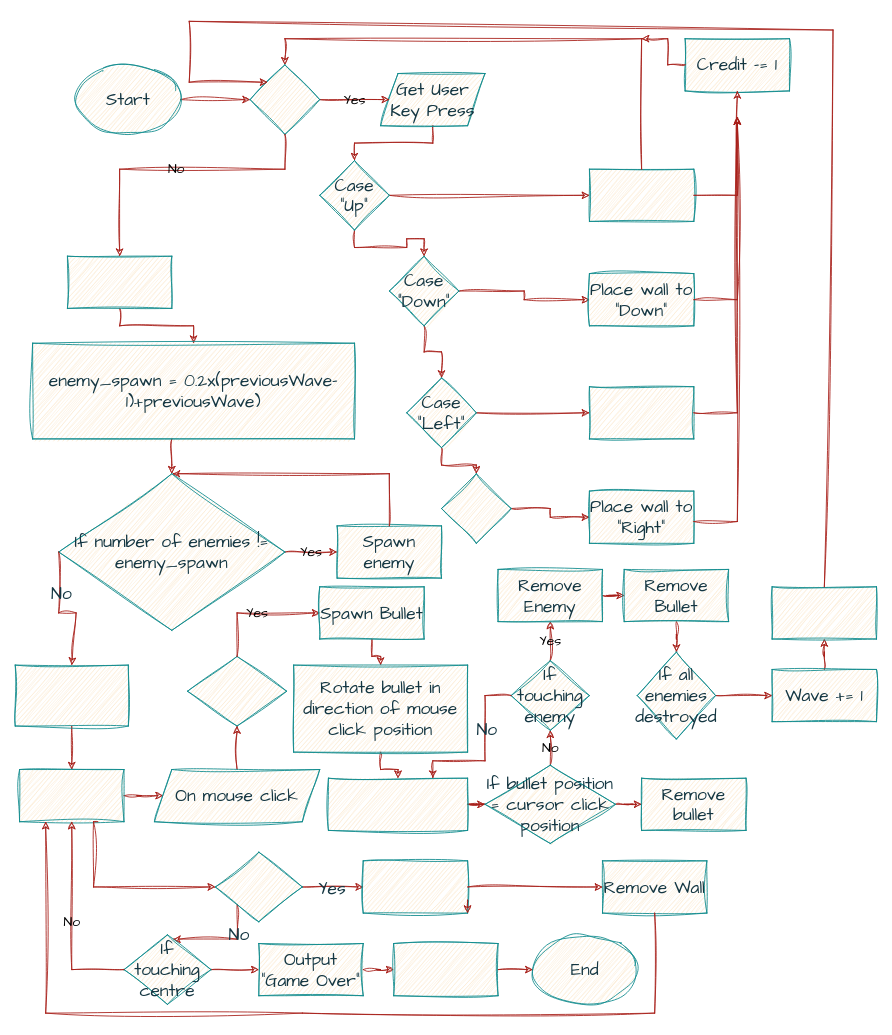
The diagram is 892 pixels wide and 1035 high, and some of its shapes have lost their labels. Here are the shapes that lost their labels. From the top down, the centre of each, then its label:
pixel 284 99: If Credit != 0
pixel 641 194: Place wall to "Up"
pixel 119 281: Start Wave
pixel 641 412: Place wall to "Left"
pixel 476 508: Case "Right"
pixel 824 612: Credit = 20
pixel 71 695: Point in direction of centre
pixel 237 691: If no active bullets
pixel 71 795: Move forward 1
pixel 398 803: Move forward 1 step
pixel 258 886: If touching wall
pixel 415 886: Move 100 steps back
pixel 445 969: Output "Score"
